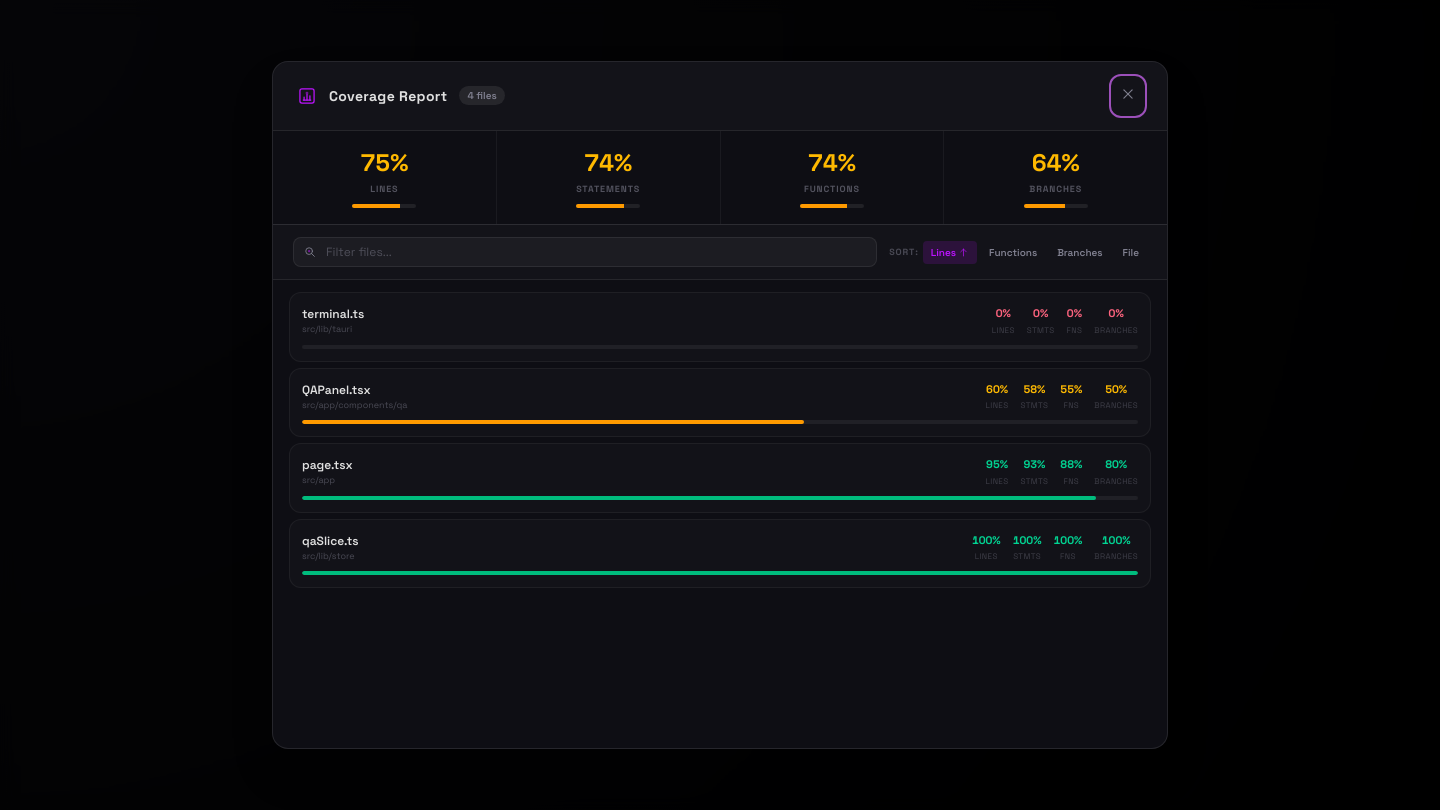
Scenario: CoverageModal › shows "no files match" message when filter matches nothing
Type "xyznotexisting" into the field with placeholder "Filter files...".
click(585, 252); type("xyznotexisting")  # box [293,237,877,267]
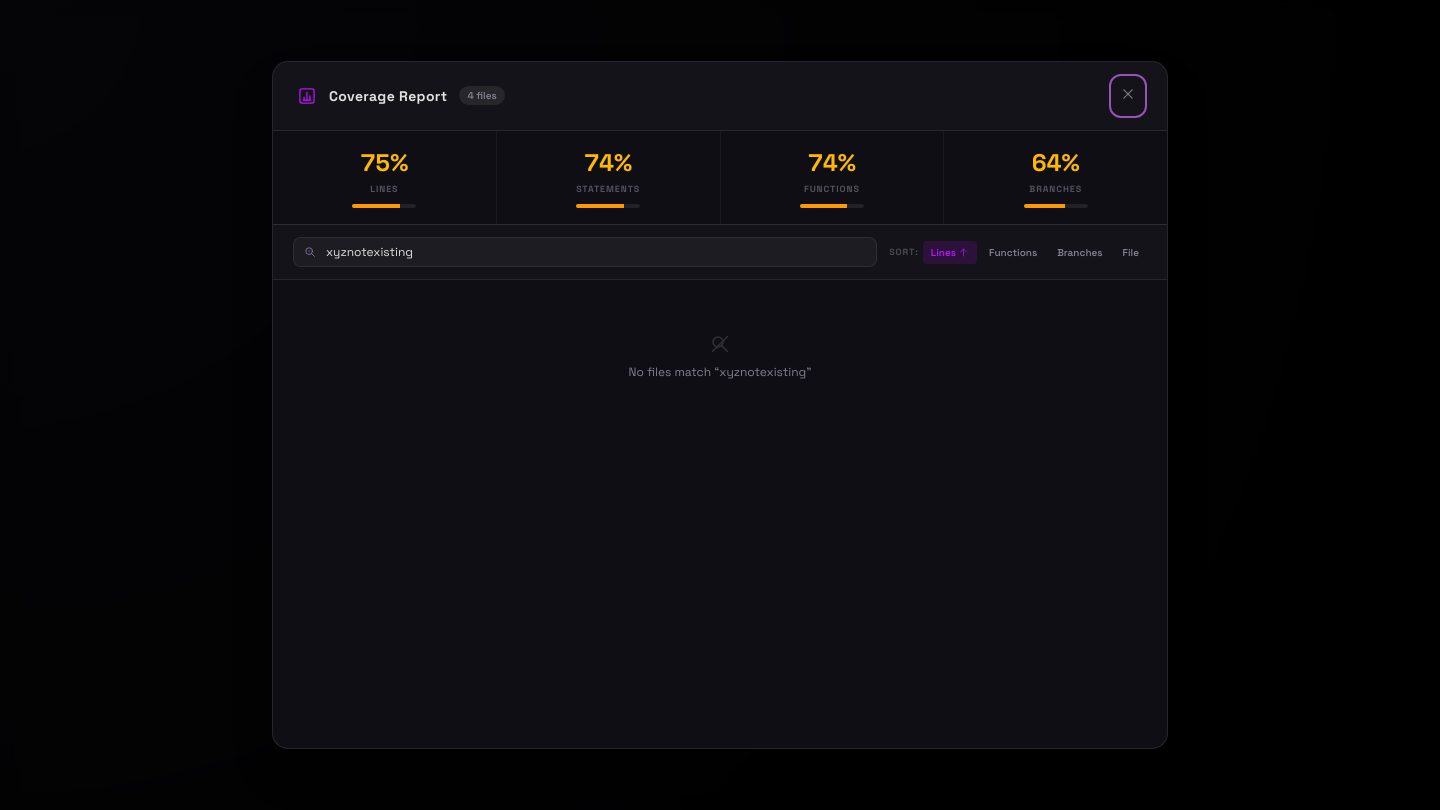
Now the text "No files match “xyznotexisting”" is shown, box [628,364,811,380]
